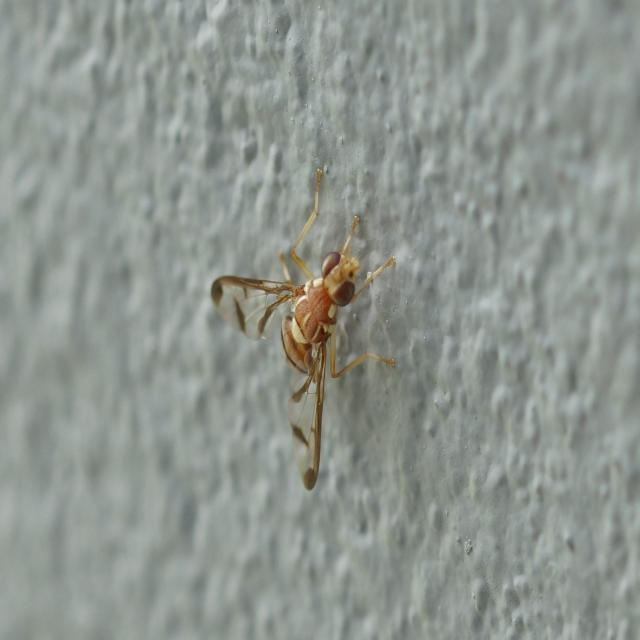Fruit fly: (206, 155, 399, 491)
